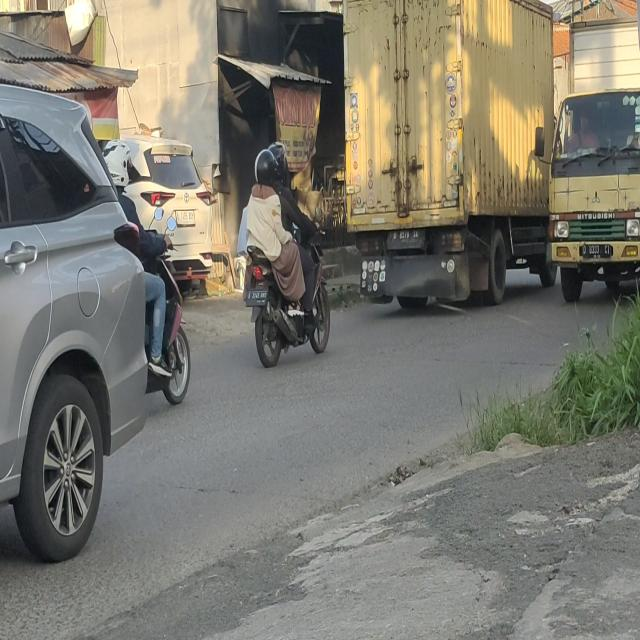helmet: (102, 138, 134, 187), (255, 148, 276, 193), (273, 143, 289, 180)
